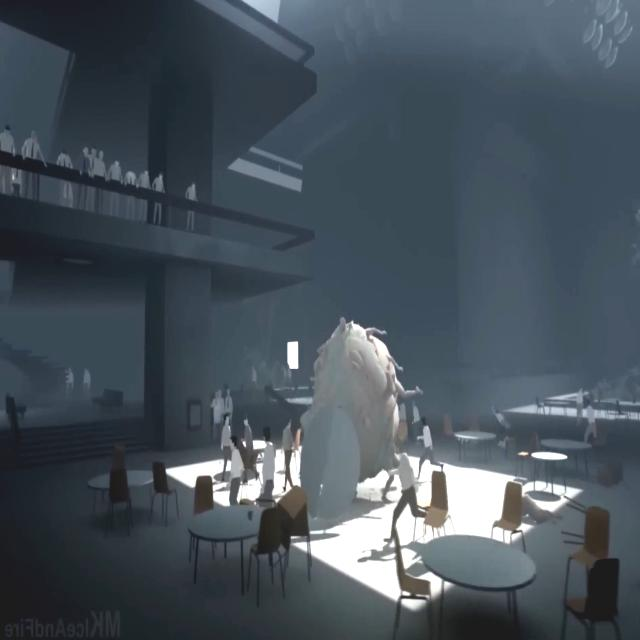blob: (309, 318, 424, 492)
human: (384, 452, 427, 543), (21, 130, 47, 201), (416, 418, 443, 480), (260, 424, 276, 503), (229, 434, 245, 510), (0, 124, 17, 194), (282, 418, 297, 492), (57, 147, 72, 206), (108, 158, 123, 216), (136, 169, 151, 224), (77, 145, 88, 212), (96, 149, 107, 214), (584, 398, 598, 448), (152, 173, 165, 226), (221, 413, 231, 481), (185, 182, 198, 232), (124, 168, 136, 220), (491, 401, 511, 432), (89, 146, 96, 212), (211, 392, 220, 438), (83, 367, 91, 399), (225, 384, 234, 411), (67, 366, 74, 400)
